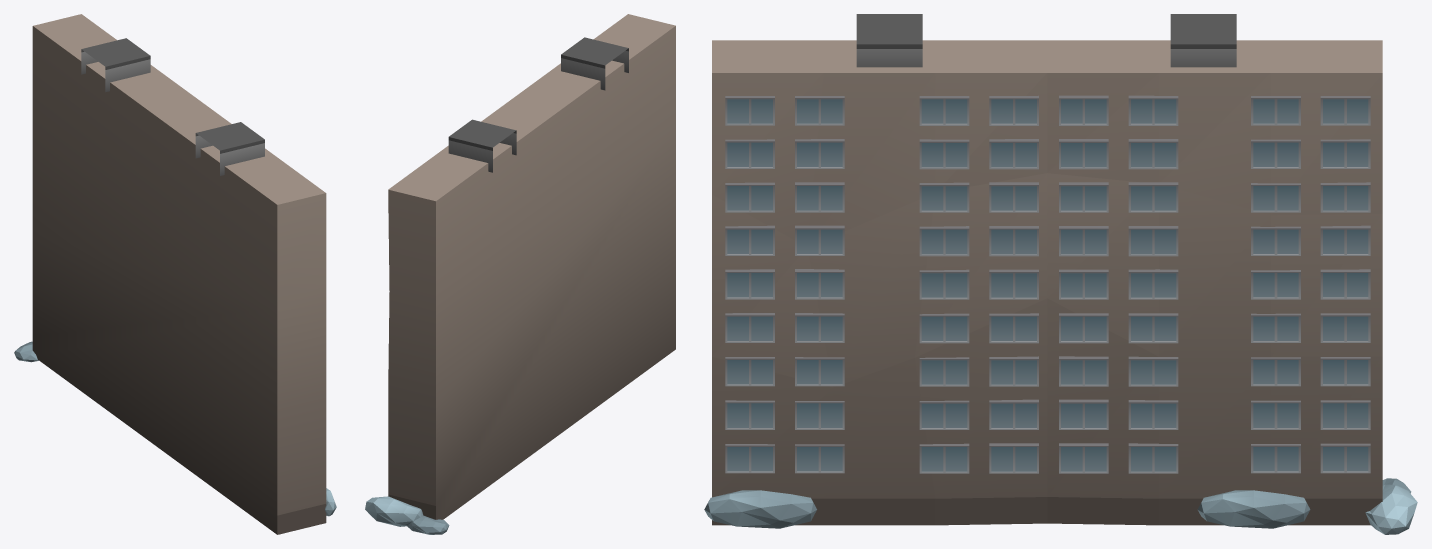
Rendered from SM_Panelki_9_stage.fbx.
The picture shows the model from 3 angles, left to right: view 1: azimuth 30°, elevation 25°; view 2: azimuth 150°, elevation 25°; view 3: azimuth 270°, elevation 25°; orthographic projection. The views are drawn at different scales.
Parts seen in each view (by area): view 1: SM_Panelki_9_stage; view 2: SM_Panelki_9_stage; view 3: SM_Panelki_9_stage.
Boxes of the visible parts, left/top/right/bottom form: SM_Panelki_9_stage: left=14, top=14, right=336, bottom=534; SM_Panelki_9_stage: left=365, top=14, right=675, bottom=534; SM_Panelki_9_stage: left=704, top=14, right=1417, bottom=534.
Bounding box in the file's own units: 839 × 3491 × 4671.
